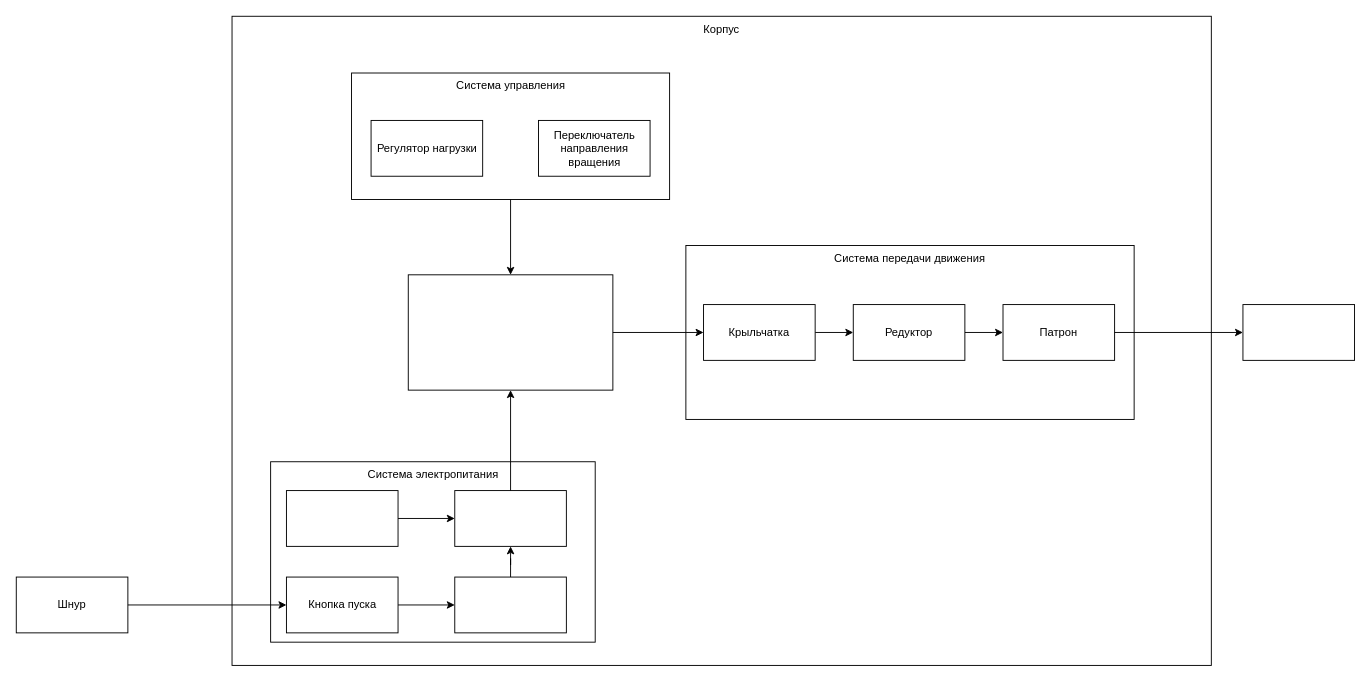
This 1371x682 diagram has some shape labels left out. The shapes that lost their labels are listed below. From the top down, each one's centre as x and y in pixels, then its label:
At pixel 510 332: "Электродвигатель".
At pixel 1298 332: "Насадка".
At pixel 342 518: "Подшипник".
At pixel 510 518: "Коллектор".
At pixel 510 604: "Щеткодержатели".
